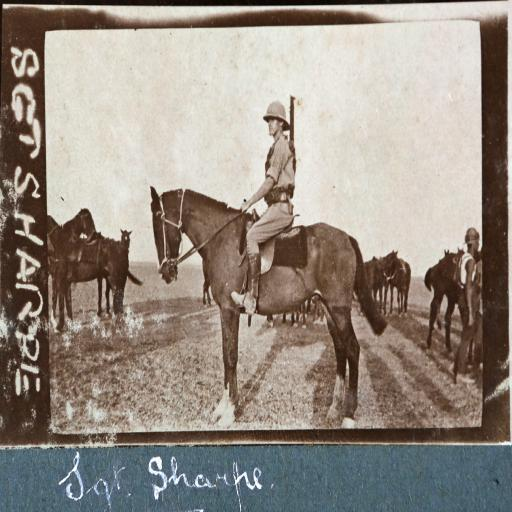horse: (150, 186, 390, 431), (46, 217, 130, 336), (45, 206, 98, 323), (96, 225, 132, 319), (382, 246, 412, 313)
